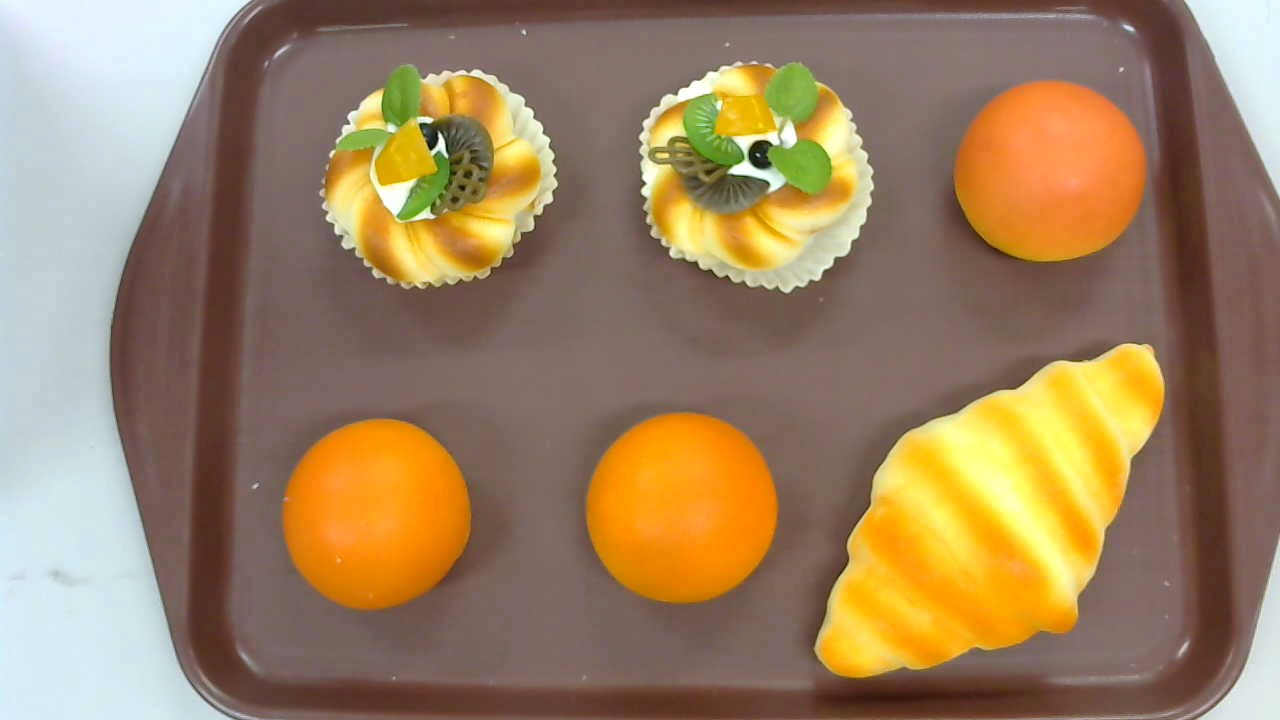bun: (585, 409, 778, 604), (953, 79, 1147, 266), (282, 419, 471, 608)
croissant: (812, 341, 1165, 679)
fruit tart: (637, 59, 875, 293), (319, 64, 558, 291)
